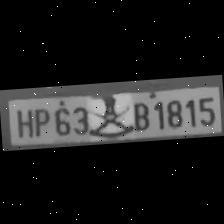1: (180, 93, 198, 126), (150, 96, 167, 130)
3: (68, 101, 92, 135)
5: (192, 92, 216, 125)
6: (48, 102, 70, 135)
8: (160, 94, 186, 128)
B: (126, 95, 152, 131)
H: (12, 106, 34, 138)
P: (29, 104, 50, 136)
